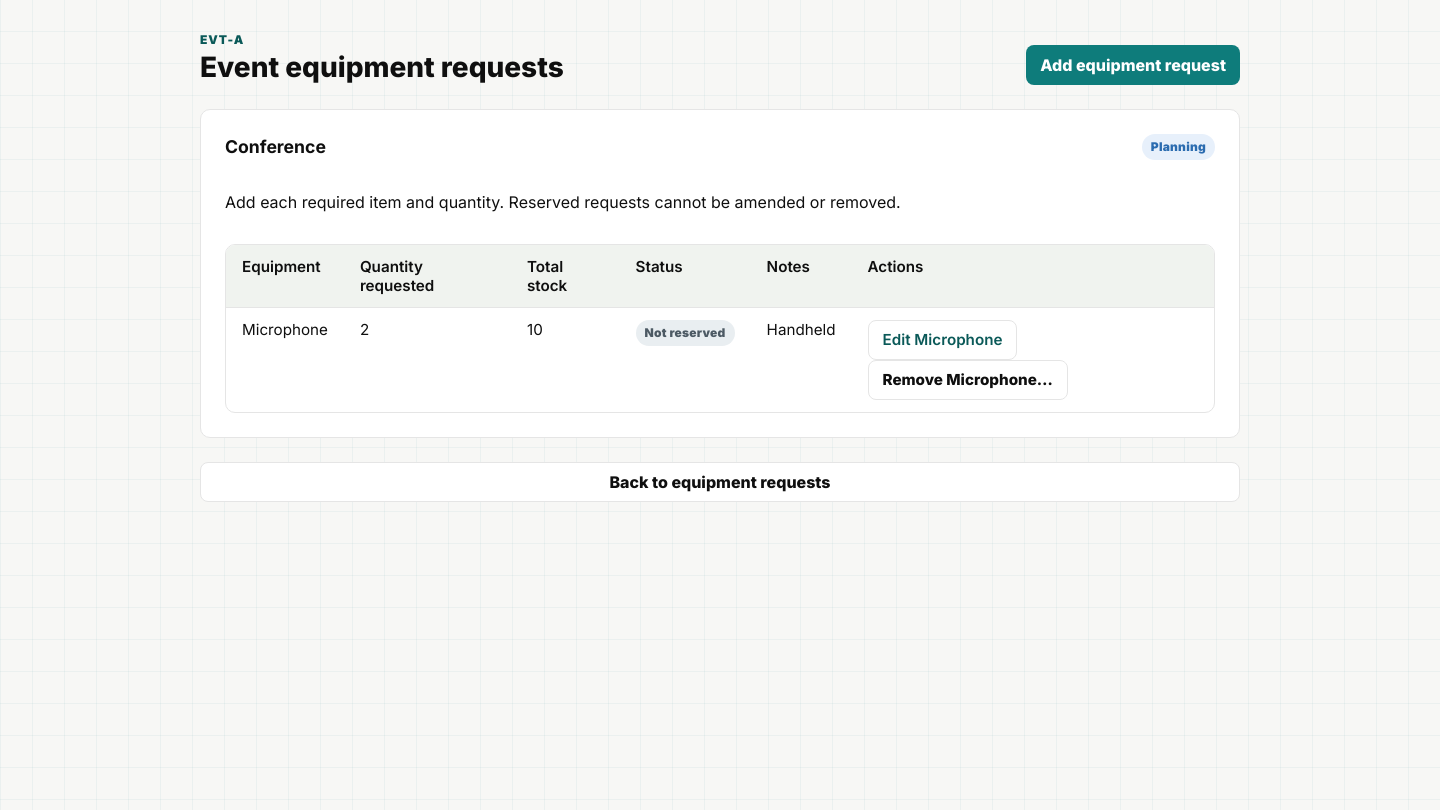
Test case: request removal requires confirmation and reports failure while retaining the row
The image size is (1440, 810).
Click the button "Remove Microphone…" at (968, 380), box top-left (868, 360), bottom-right (1068, 400)
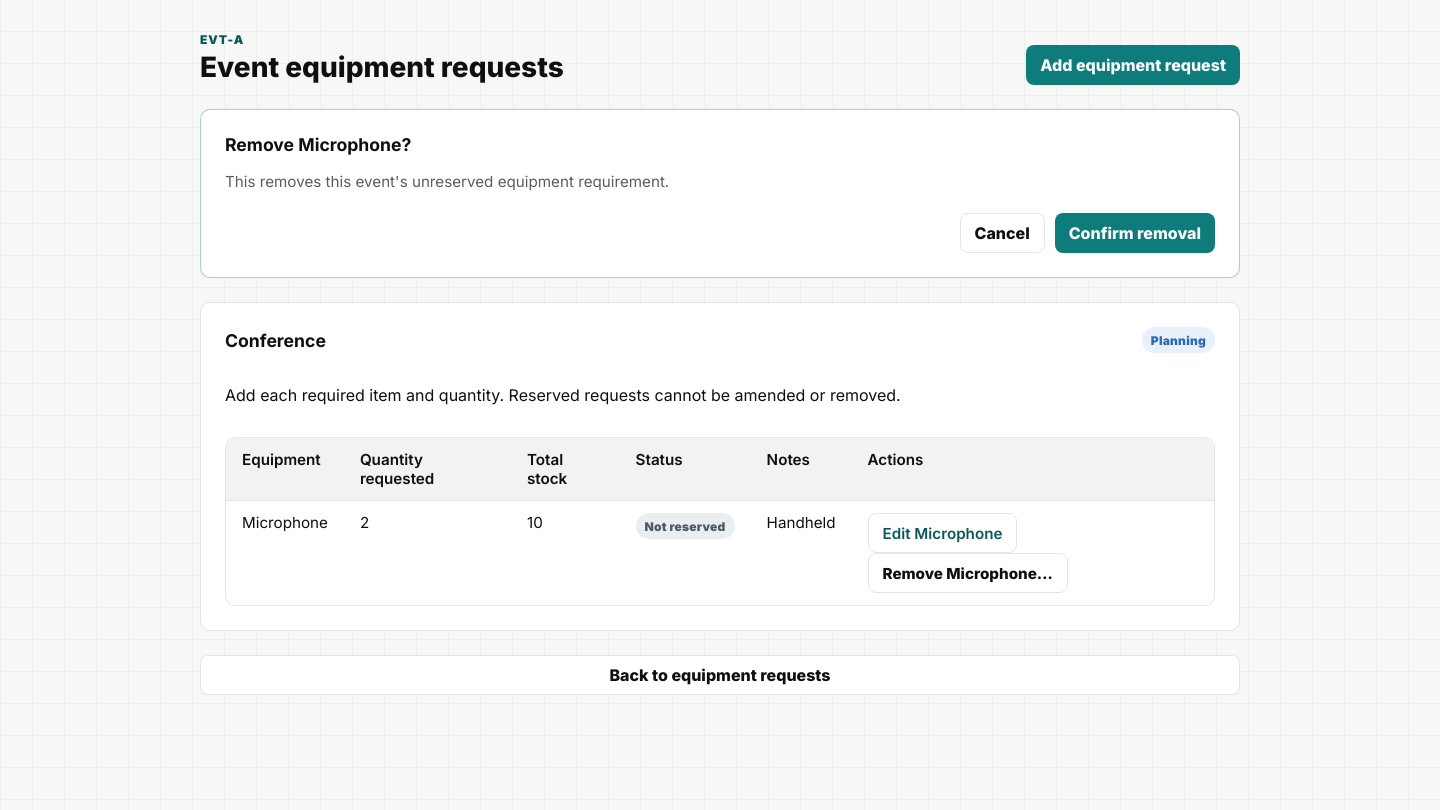
Click the button "Confirm removal" at (1135, 233), box top-left (1055, 213), bottom-right (1215, 253)
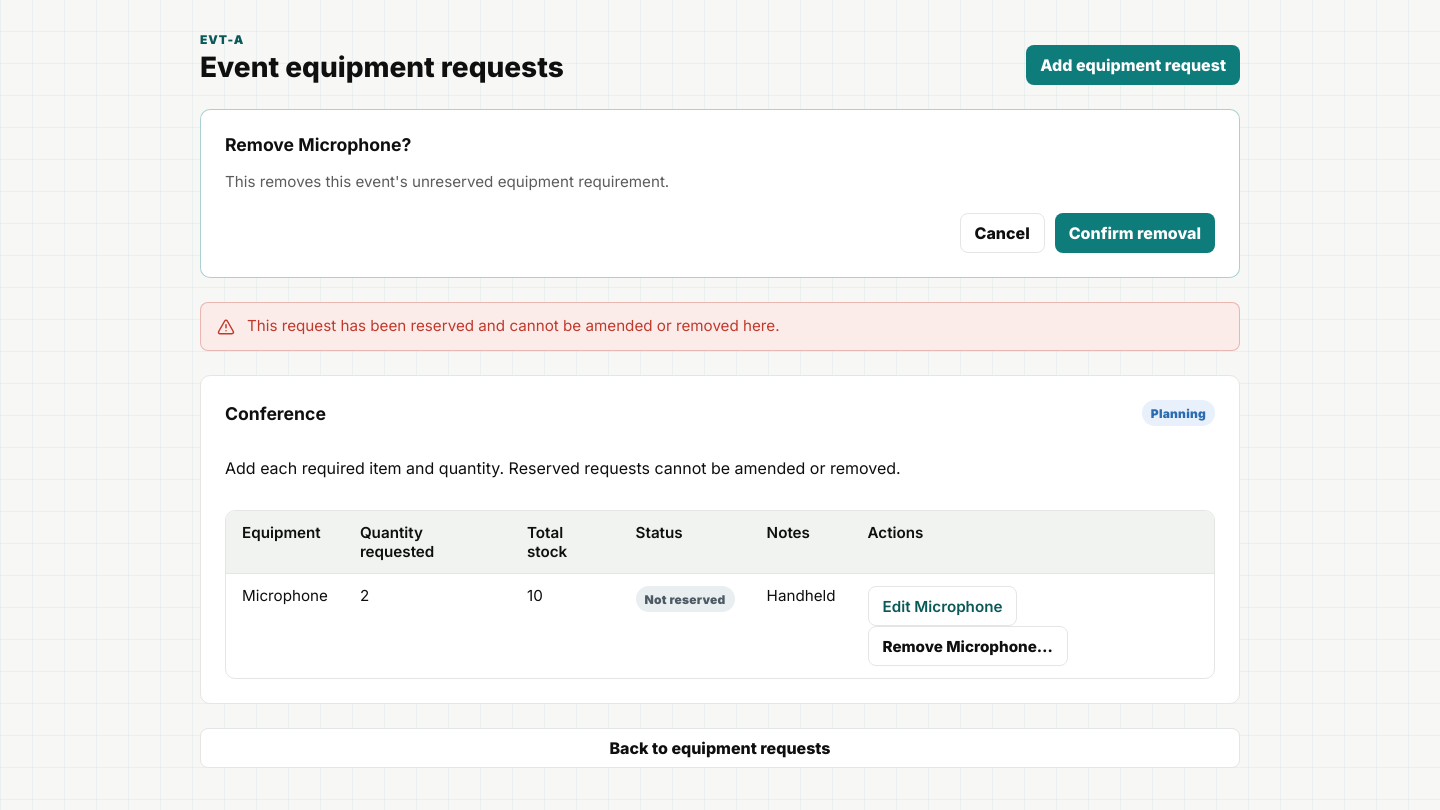
expect the link "Edit Microphone" is shown: met, box top-left (868, 586), bottom-right (1017, 626)
expect the text "This request has been reserved and cannot be amended or removed here." is shown: met, box top-left (247, 316), bottom-right (780, 335)
